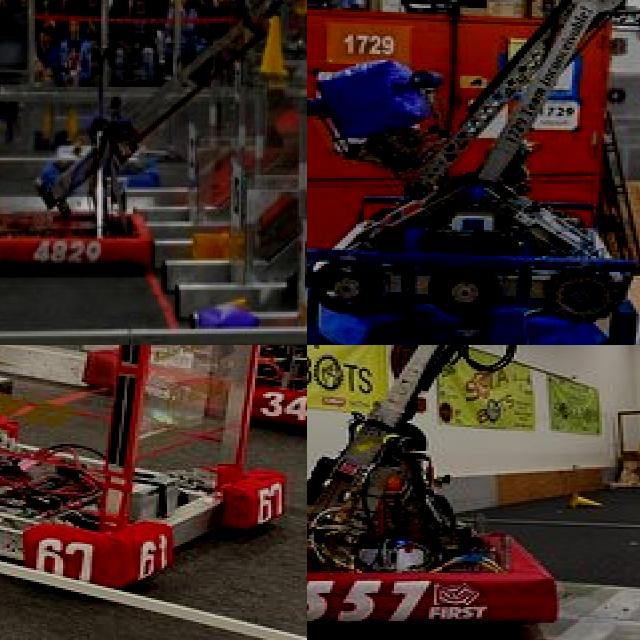FRC-Robots: (307, 0, 640, 345), (307, 345, 616, 638), (0, 0, 307, 292), (0, 345, 307, 613)
